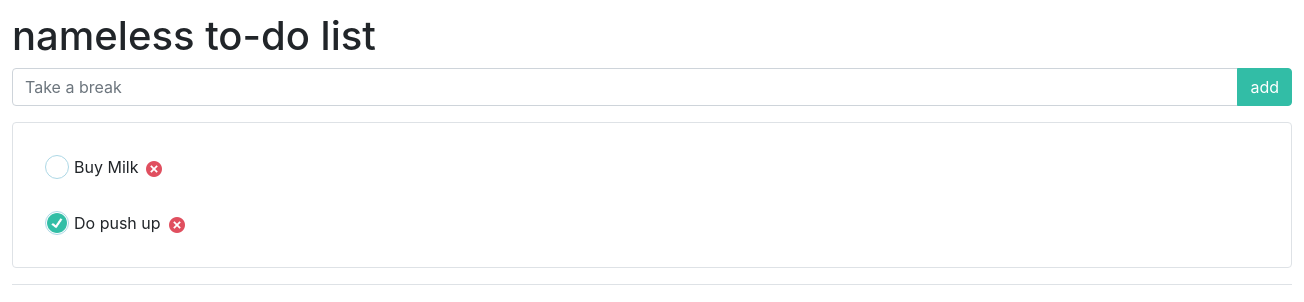
Test: TodoList › should allow user to change status of a todo item
Click the checkbox next to "Buy Milk" at point(57, 167), box [45,155,69,179]
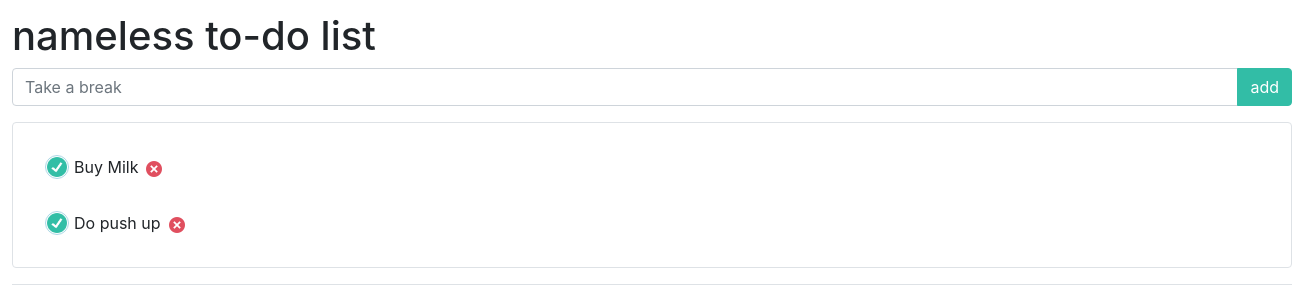
expect the number of pictures with alt text "done" is 2: met, box [47,157,67,177]; [47,213,67,233]
Click the checkbox next to "Do push up" at point(57, 223), box [45,211,69,235]
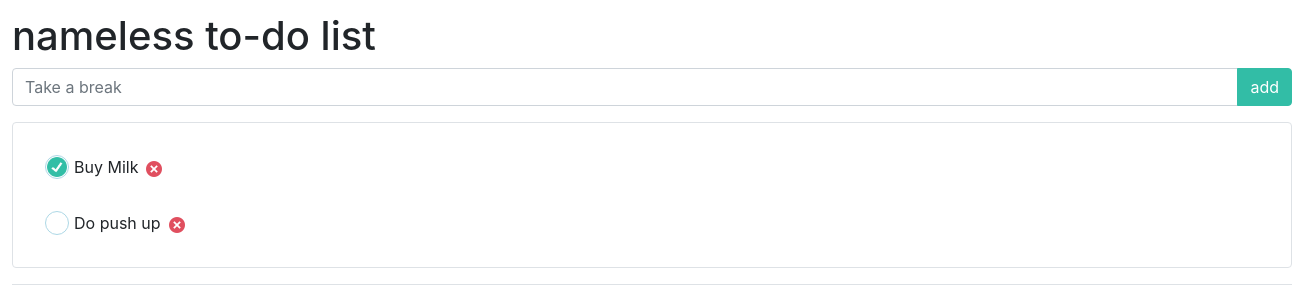
Click the checkbox next to "Buy Milk" at point(57, 167), box [45,155,69,179]
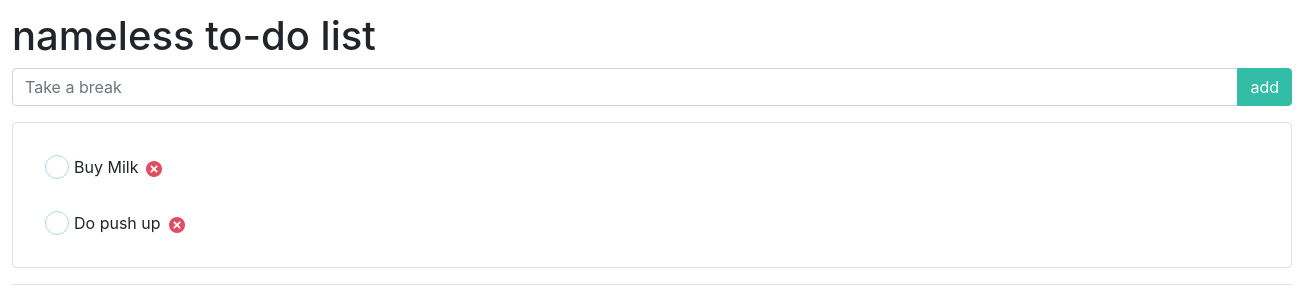
expect no pictures with alt text "done" are shown: met
